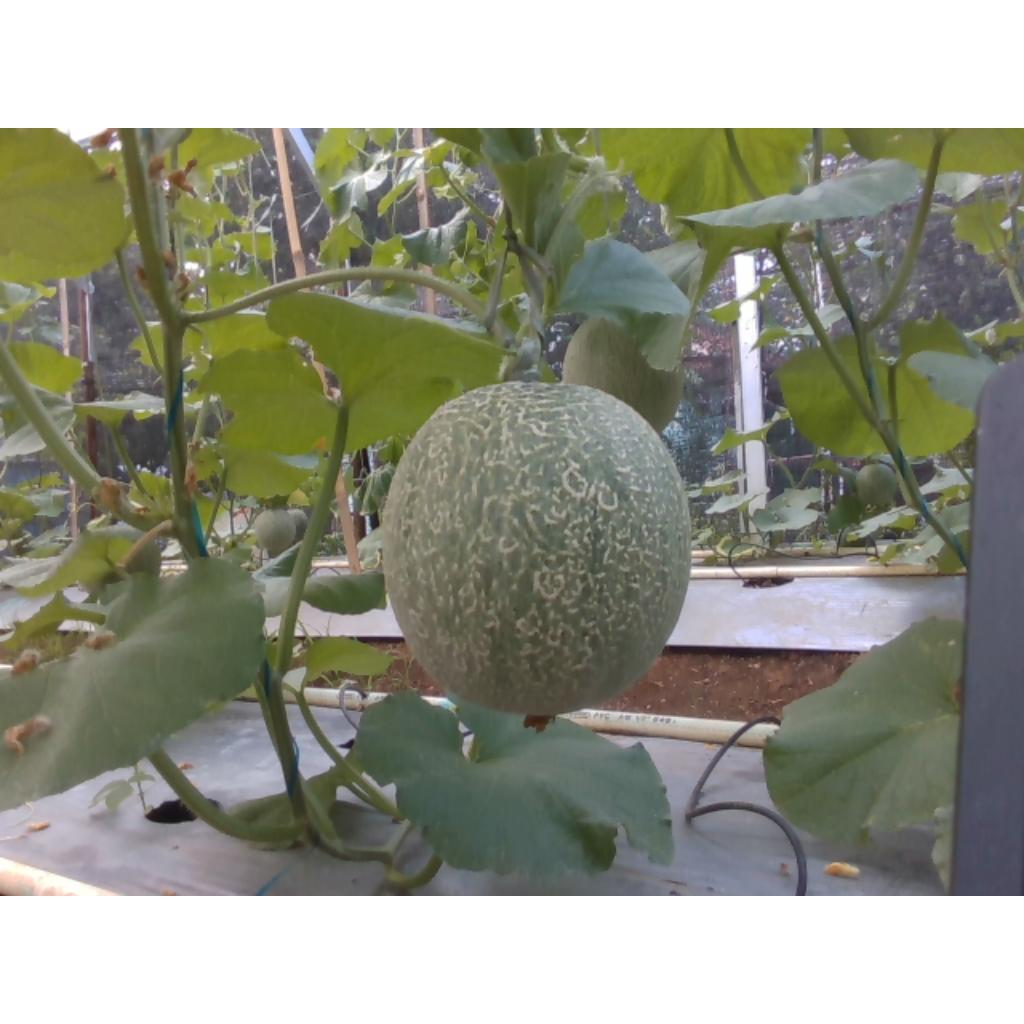melon: (384, 381, 691, 716)
